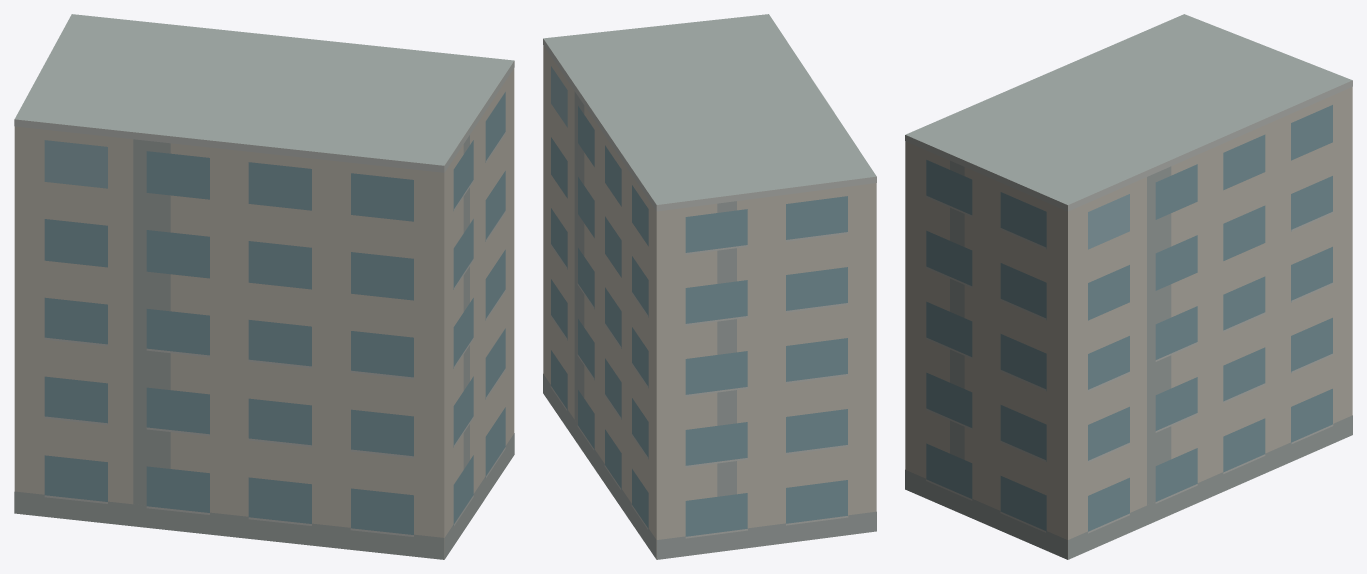
The model's file is survey-upis-32885759.glb.
The picture shows the model from 3 angles, left to right: view 1: azimuth 30°, elevation 25°; view 2: azimuth 150°, elevation 25°; view 3: azimuth 270°, elevation 25°; orthographic projection. The views are drawn at different scales.
Visible parts, largest first — view 1: survey-upis-32885759.tmp; view 2: survey-upis-32885759.tmp; view 3: survey-upis-32885759.tmp.
Boxes of the visible parts, <box> form: survey-upis-32885759.tmp: <box>14,14,514,559</box>; survey-upis-32885759.tmp: <box>543,14,876,559</box>; survey-upis-32885759.tmp: <box>905,14,1352,559</box>.
Bounding box in the file's own units: 15.67 × 13.55 × 15.5.
